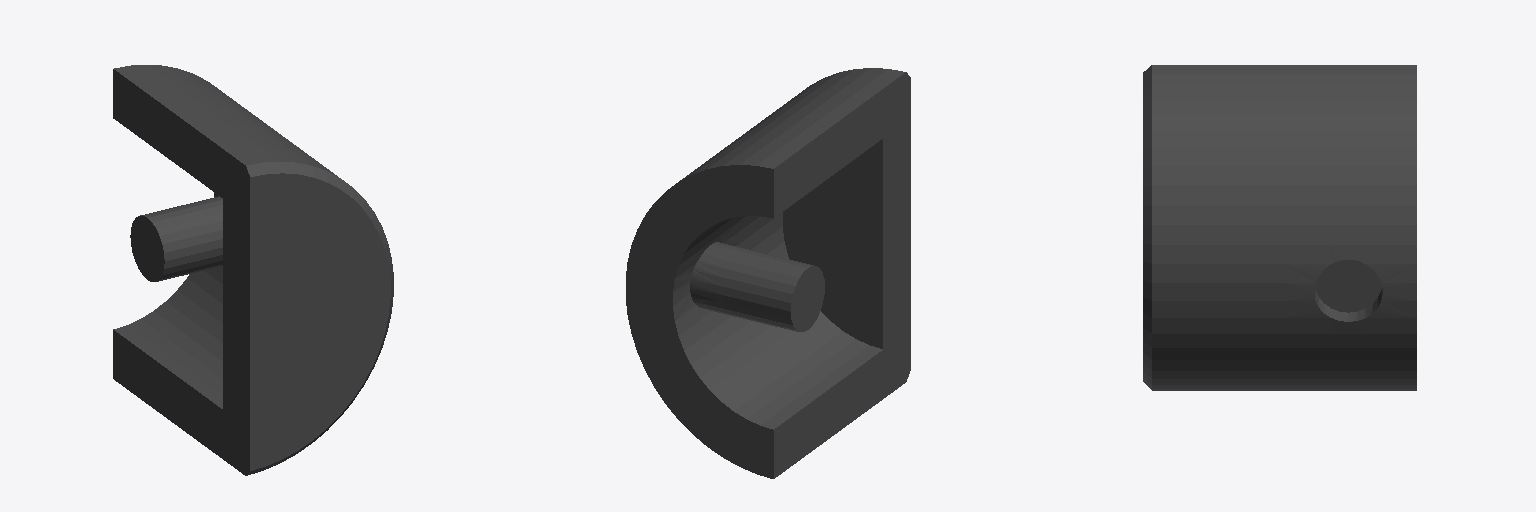
Rendered from piston.obj.
3 renders of one model, left to right at view 1: azimuth 30°, elevation 25°; view 2: azimuth 150°, elevation 25°; view 3: azimuth 270°, elevation 25°, orthographic.
Visible parts, largest first — view 1: mesh 1 piston; view 2: mesh 1 piston; view 3: mesh 1 piston.
Boxes of the visible parts, x1=… form: mesh 1 piston: x1=113, y1=65, x2=393, y2=475; mesh 1 piston: x1=626, y1=68, x2=910, y2=478; mesh 1 piston: x1=1143, y1=65, x2=1416, y2=390.
Size of the model in its own units: 0.375 by 0.75 by 0.6.